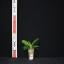leaf: (31, 38, 39, 46), (22, 40, 30, 46), (31, 43, 38, 48), (32, 47, 38, 51), (31, 45, 39, 48), (24, 45, 30, 48), (23, 47, 31, 49), (28, 41, 31, 46), (24, 48, 30, 50)
